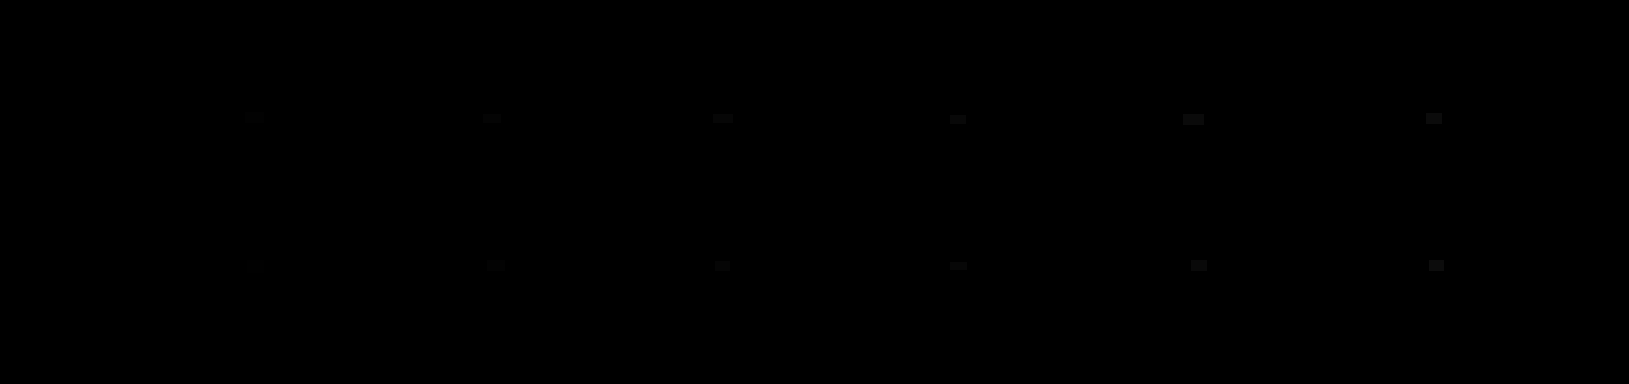light: (1183, 114, 1204, 125), (245, 112, 264, 124), (247, 260, 264, 273), (713, 114, 733, 124), (487, 260, 505, 271), (1191, 260, 1207, 271), (483, 114, 501, 124), (715, 260, 730, 271), (1426, 113, 1442, 124), (1428, 260, 1444, 271), (950, 262, 967, 270), (950, 115, 966, 124)
